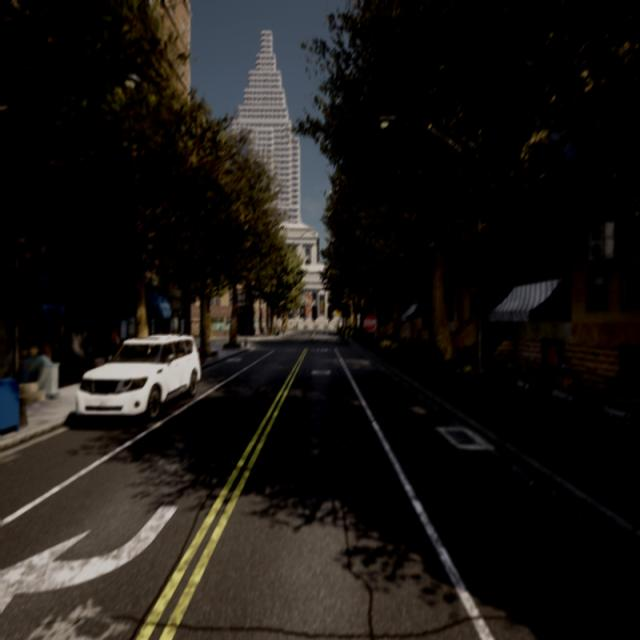stop sign: (361, 310, 378, 335)
